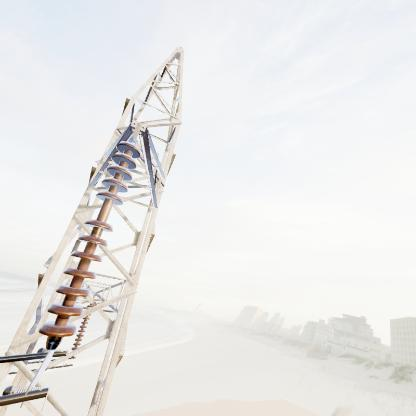insulator: (31, 137, 144, 351)
